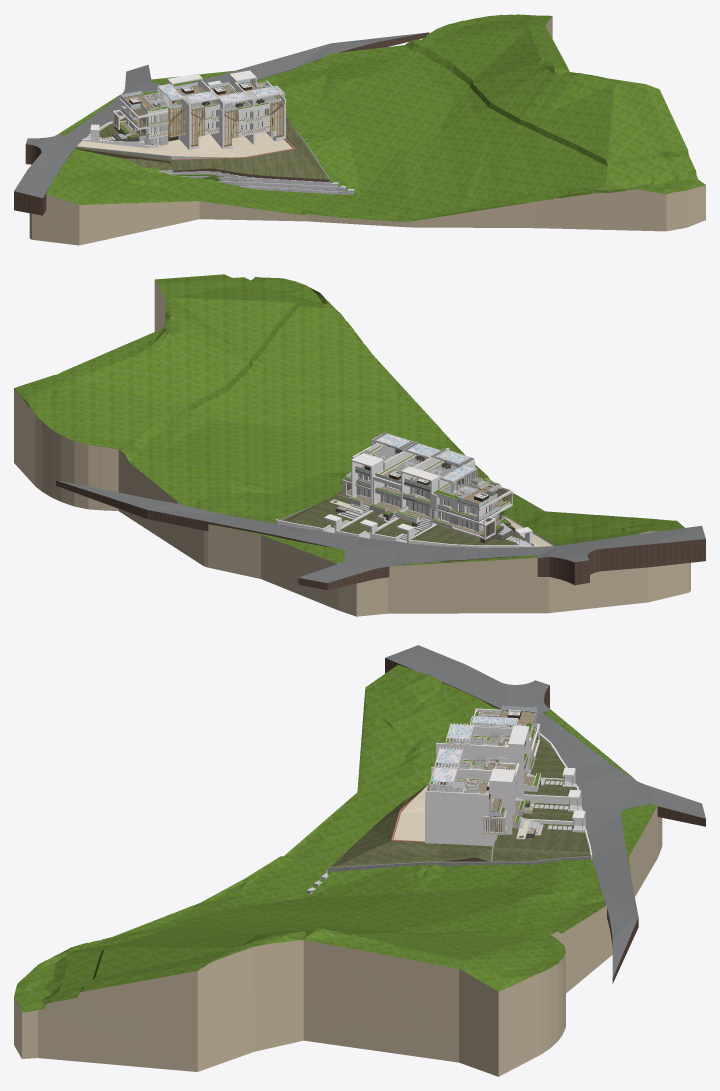
The model's file is vista-mare.glb.
3 renders of one model, top to bottom at view 1: azimuth 30°, elevation 25°; view 2: azimuth 150°, elevation 25°; view 3: azimuth 270°, elevation 25°, orthographic. The views are drawn at different scales.
Parts seen in each view (by area): view 1: VisualSceneNode1, VisualSceneNode1.012, VisualSceneNode1.112, VisualSceneNode1.006, VisualSceneNode1.007, VisualSceneNode1.013, VisualSceneNode1.001, VisualSceneNode1.003, VisualSceneNode1.685, VisualSceneNode1.004, VisualSceneNode1.2318; view 2: VisualSceneNode1, VisualSceneNode1.012, VisualSceneNode1.112, VisualSceneNode1.006, VisualSceneNode1.001, VisualSceneNode1.003, VisualSceneNode1.685; view 3: VisualSceneNode1, VisualSceneNode1.112, VisualSceneNode1.012, VisualSceneNode1.006, VisualSceneNode1.004, VisualSceneNode1.007, VisualSceneNode1.001.
Boxes of the visible parts, bbox=[...] form: VisualSceneNode1: bbox=[29, 14, 705, 245]; VisualSceneNode1.012: bbox=[14, 32, 429, 215]; VisualSceneNode1.112: bbox=[14, 32, 428, 198]; VisualSceneNode1.006: bbox=[82, 70, 285, 149]; VisualSceneNode1.007: bbox=[77, 132, 292, 157]; VisualSceneNode1.013: bbox=[158, 170, 354, 194]; VisualSceneNode1.001: bbox=[113, 86, 295, 160]; VisualSceneNode1.003: bbox=[126, 101, 281, 159]; VisualSceneNode1.685: bbox=[120, 79, 278, 121]; VisualSceneNode1.004: bbox=[76, 82, 330, 182]; VisualSceneNode1.2318: bbox=[124, 82, 259, 108]; VisualSceneNode1: bbox=[14, 274, 690, 616]; VisualSceneNode1.012: bbox=[56, 480, 705, 590]; VisualSceneNode1.112: bbox=[57, 480, 705, 582]; VisualSceneNode1.006: bbox=[275, 432, 537, 547]; VisualSceneNode1.001: bbox=[339, 452, 510, 538]; VisualSceneNode1.003: bbox=[344, 457, 504, 531]; VisualSceneNode1.685: bbox=[347, 457, 499, 521]; VisualSceneNode1: bbox=[14, 665, 662, 1076]; VisualSceneNode1.112: bbox=[385, 645, 705, 977]; VisualSceneNode1.012: bbox=[330, 658, 705, 983]; VisualSceneNode1.006: bbox=[425, 710, 592, 859]; VisualSceneNode1.004: bbox=[328, 840, 590, 872]; VisualSceneNode1.007: bbox=[393, 784, 428, 841]; VisualSceneNode1.001: bbox=[391, 710, 537, 842].
Bounding box in the file's own units: 158 × 22.65 × 126.
35 materials, 35 textured.
